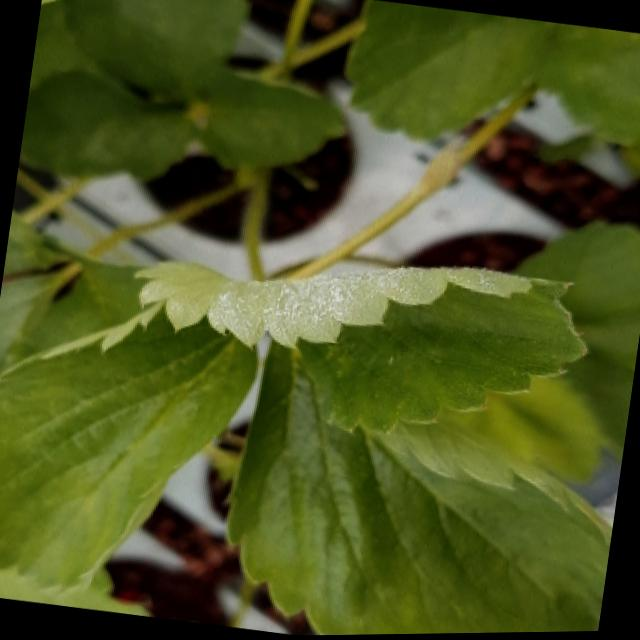Powdery Mildew Leaf: (133, 258, 588, 435)
